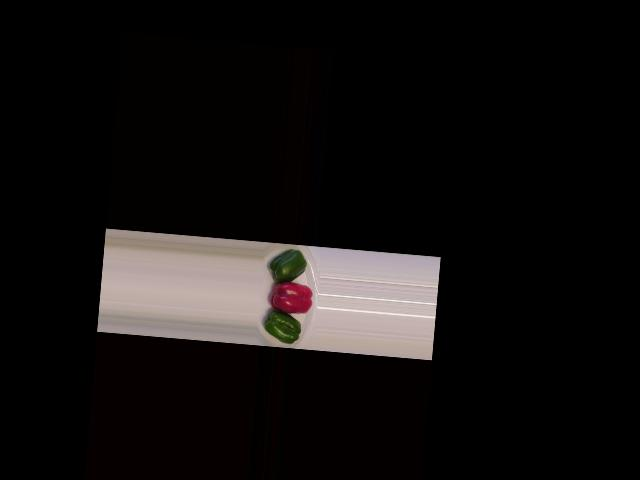bell_pepper: (264, 245, 312, 285)
